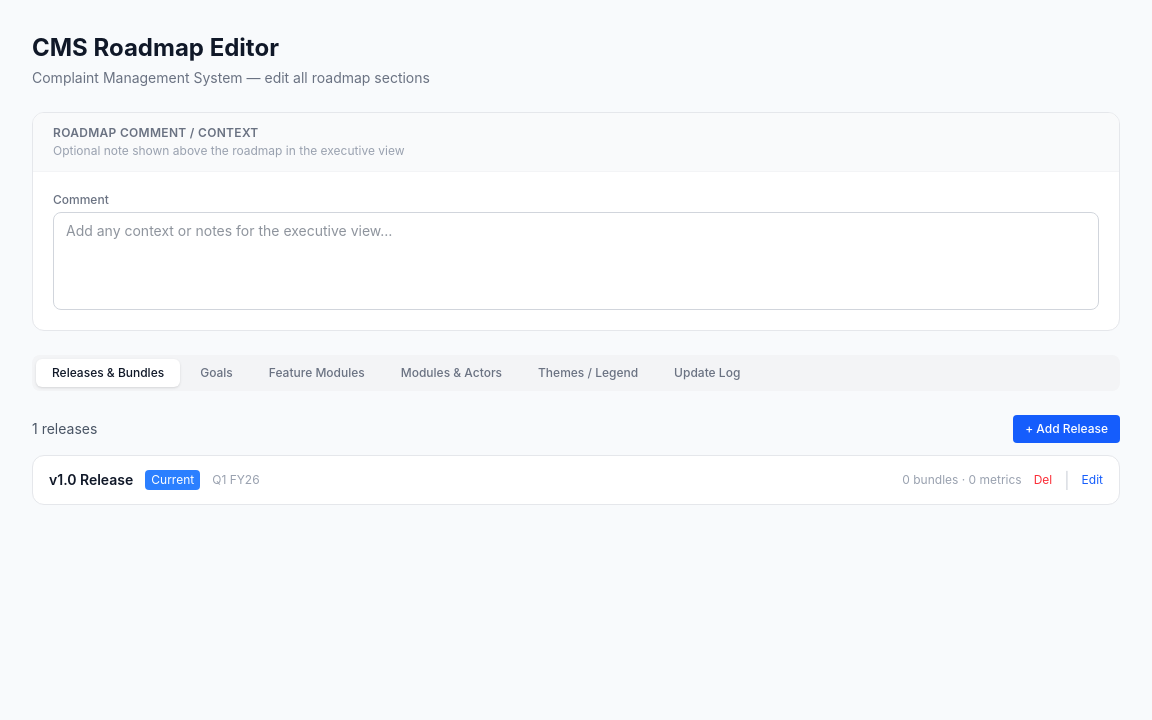
ComplaintsRoadmapEditor (via RoadmapEditor with cms slug) › T-50.20: Del button on a goal removes it
The width and height of the screenshot is (1152, 720).
Click the button "Goals" at (216, 373), box [184,359,249,387]
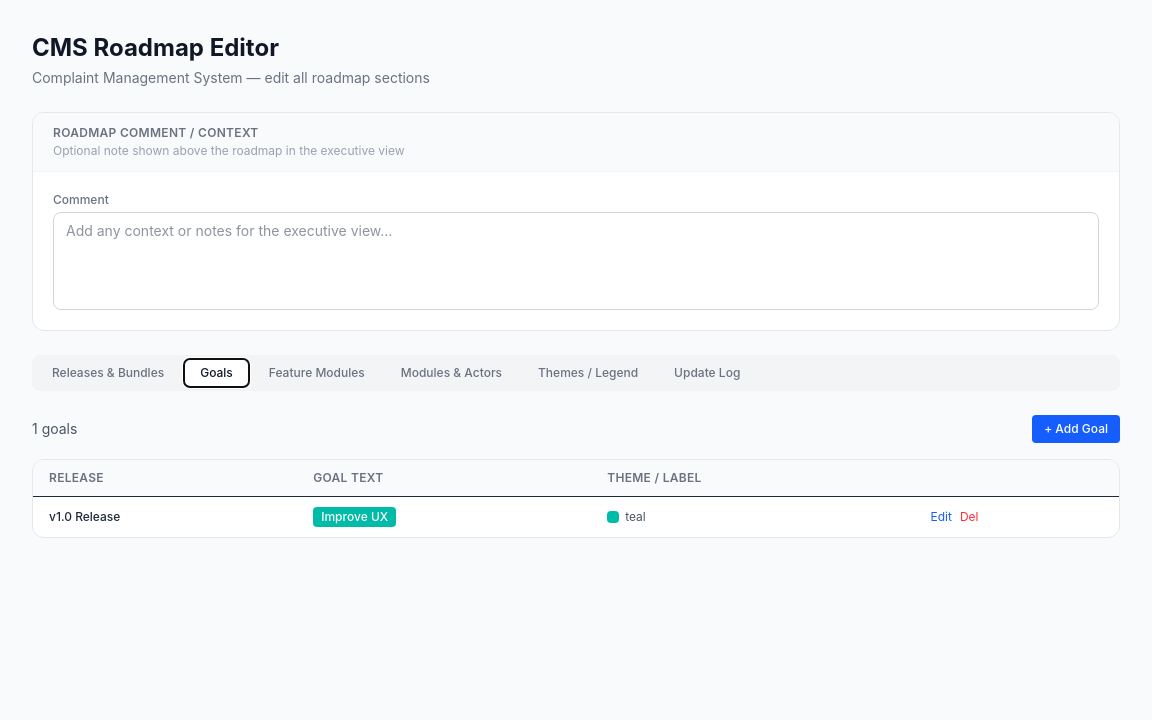
Expected: the text "Improve UX" is shown, [313,507,396,527]
Click the button "Del" at (969, 517), box [960,509,978,525]
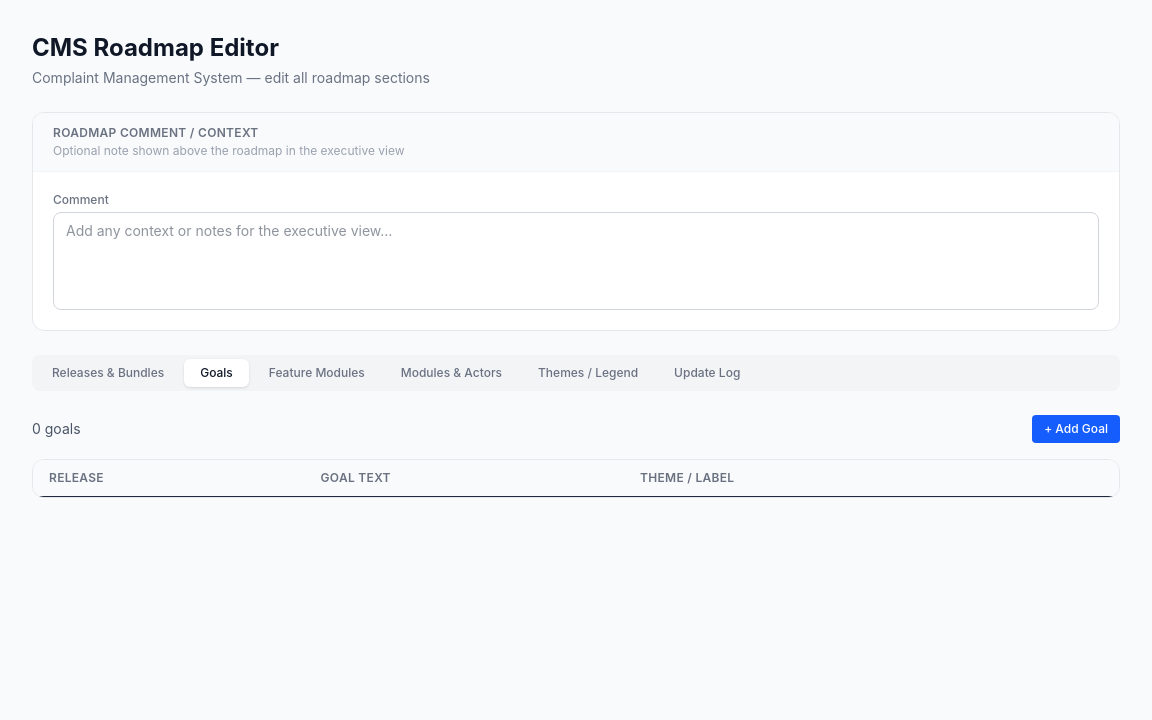
Expected: the text "Improve UX" is gone
